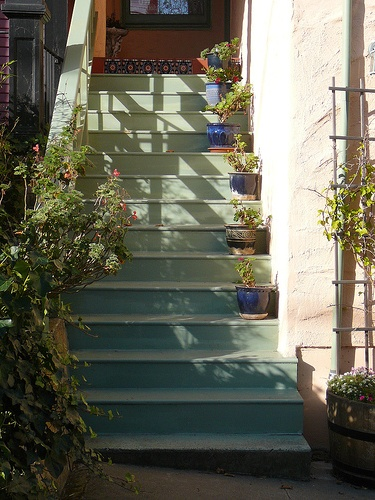stairs_up: (61, 70, 320, 483)
